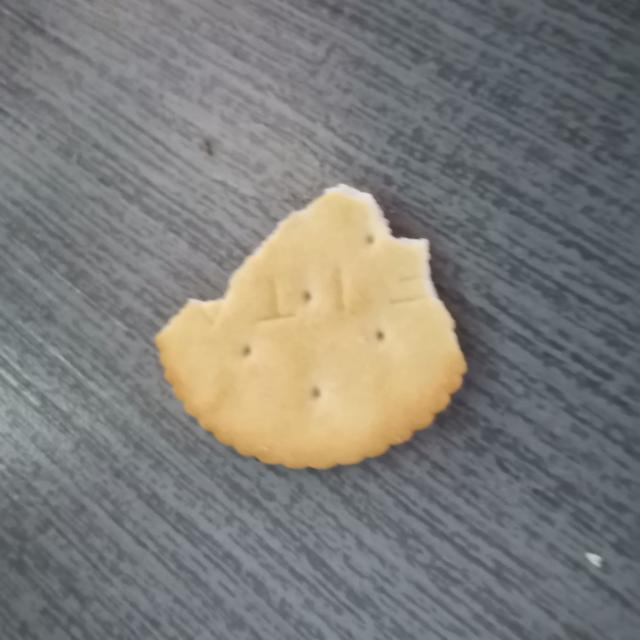Broken: (153, 182, 468, 470)
